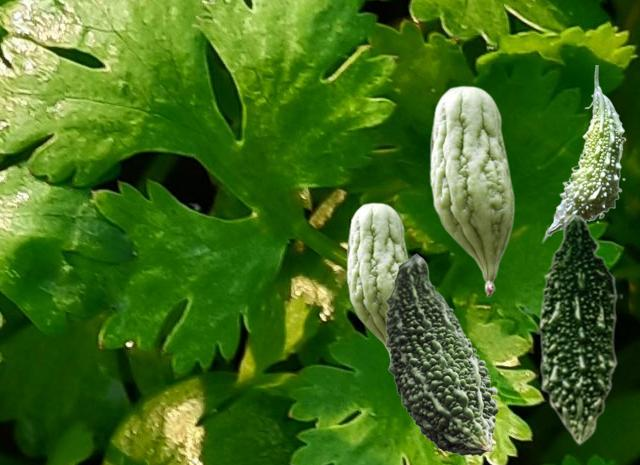ampalaya: (385, 253, 498, 455), (538, 210, 622, 445), (429, 85, 514, 296), (550, 65, 625, 235), (346, 202, 408, 357)
